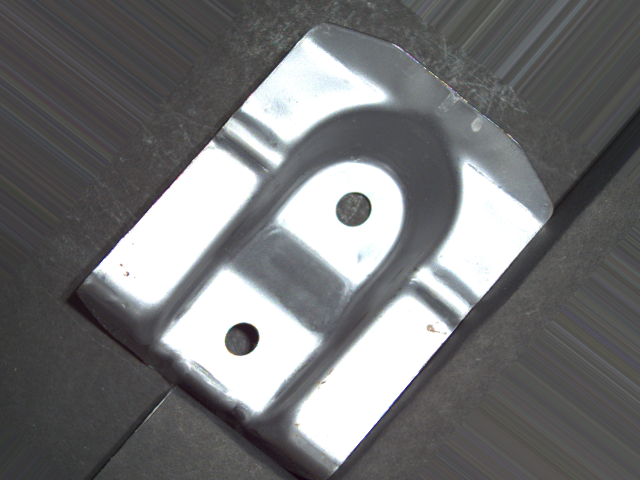defect: (330, 184, 380, 233)
